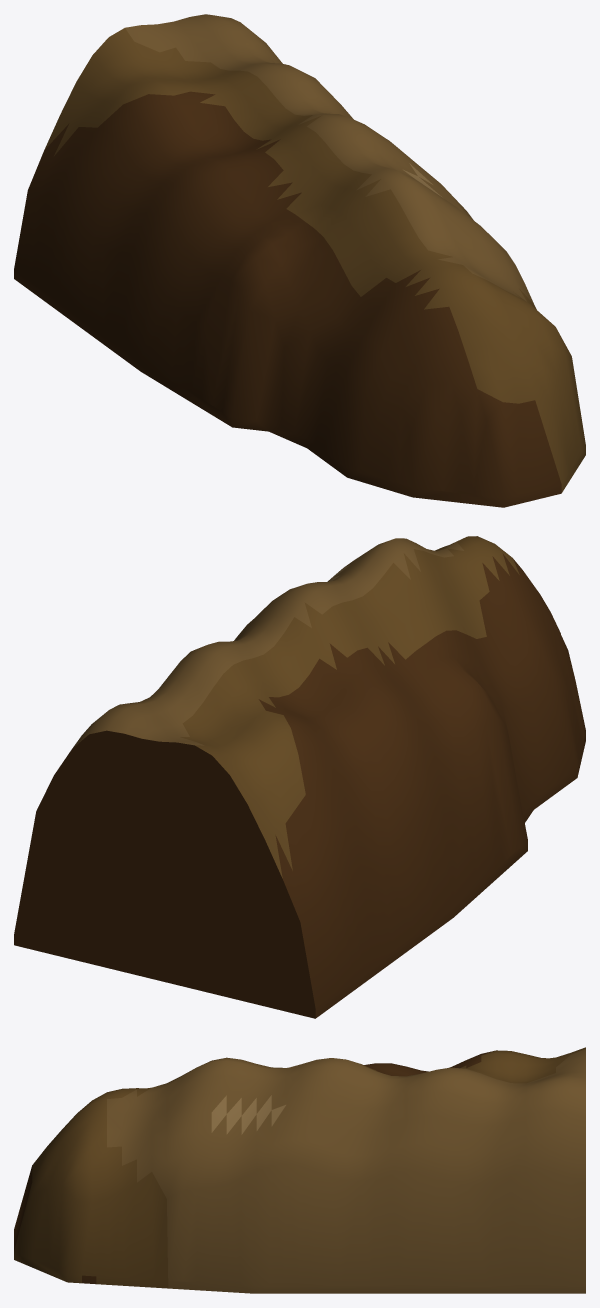
Rendered from rock_tip.glb.
3 views of the same model, one above another, from view 1: azimuth 30°, elevation 25°; view 2: azimuth 150°, elevation 25°; view 3: azimuth 270°, elevation 25° (orthographic). The views are drawn at different scales.
Parts seen in each view (by area): view 1: rock; view 2: rock; view 3: rock.
Part boxes in pixels (x1,y1,x2,y2): rock: (14, 14, 585, 507); rock: (14, 536, 585, 1018); rock: (14, 1047, 585, 1293).
Bounding box in the file's own units: 6 × 4.9 × 13.38.
